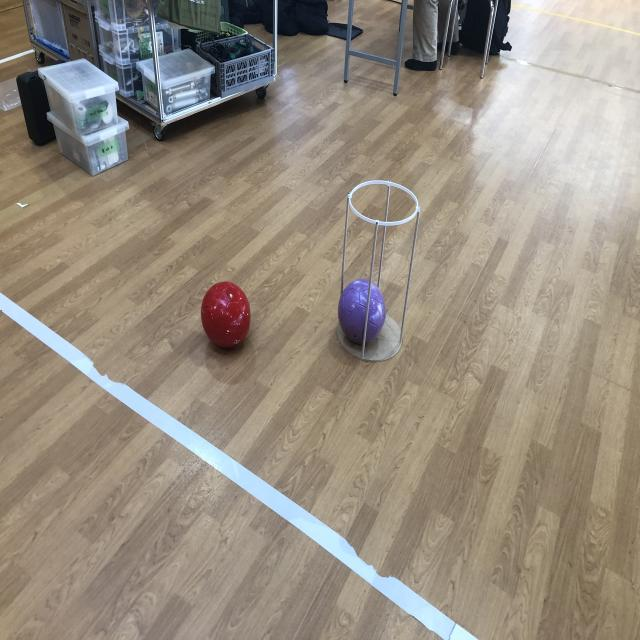purple_ball: (338, 279, 383, 344)
red_ball: (200, 281, 250, 349)
